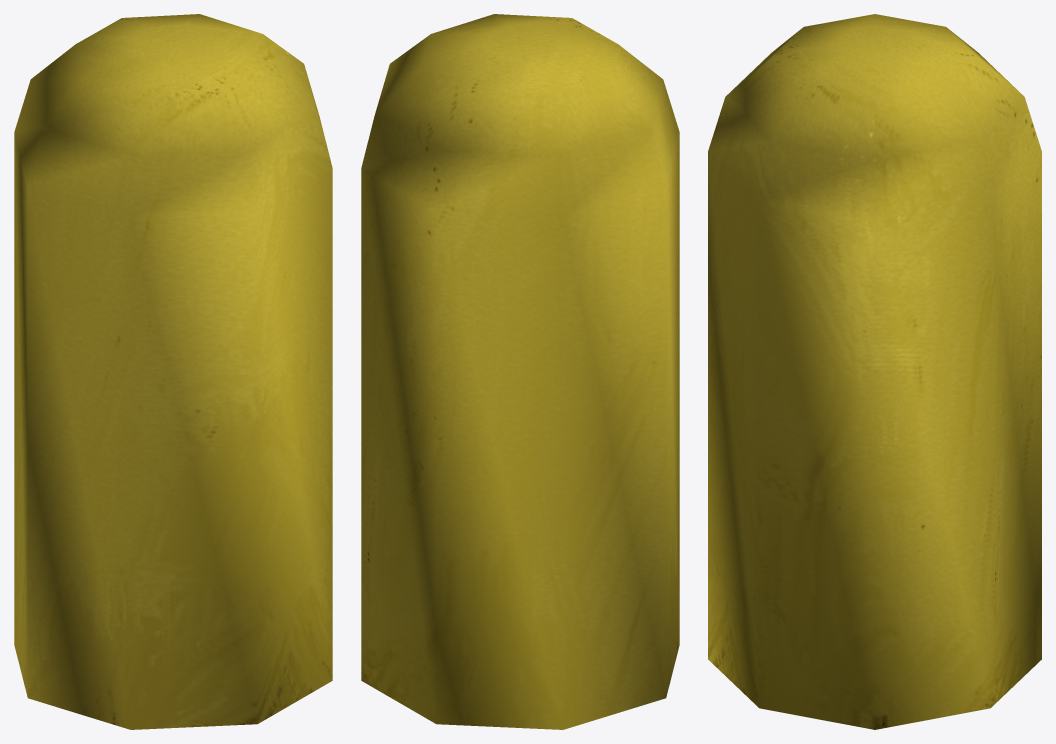
The model's file is o3_paracarro_giallo.glb.
3 views of the same model, side by side, from view 1: azimuth 30°, elevation 25°; view 2: azimuth 150°, elevation 25°; view 3: azimuth 270°, elevation 25° (orthographic).
Parts seen in each view (by area): view 1: sb_modello; view 2: sb_modello; view 3: sb_modello.
Boxes of the visible parts, box(x1,y1,x2,y2) form: sb_modello: box(14, 14, 332, 729); sb_modello: box(361, 14, 679, 729); sb_modello: box(708, 14, 1041, 729).
Size of the model in its own units: 0.3039 by 0.62 by 0.3039.
1 material, 1 textured.
